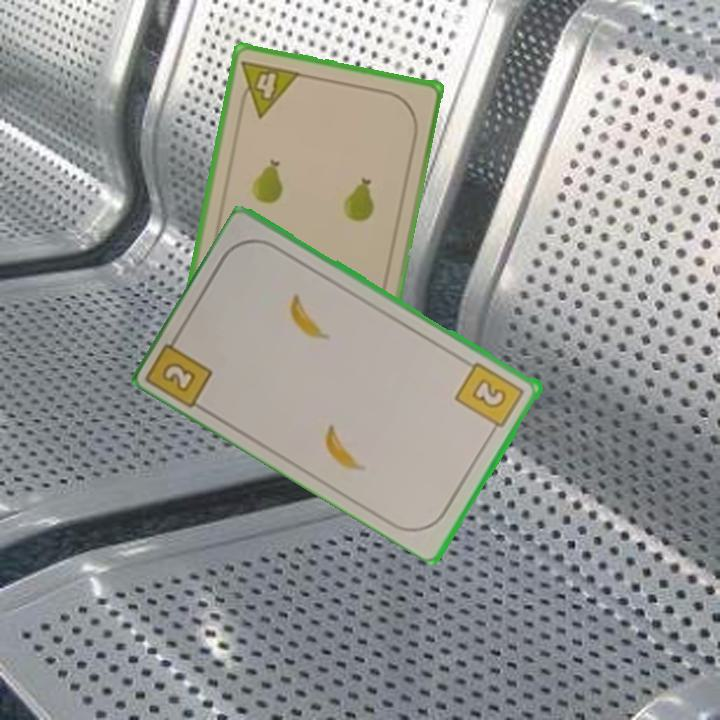2b: (452, 358, 528, 437), (146, 326, 217, 410)
4p: (234, 56, 303, 120)
